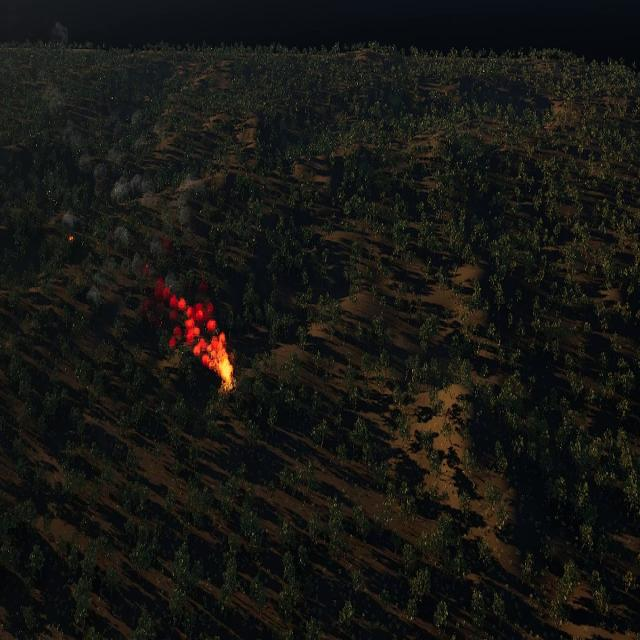fire: (216, 352, 233, 385), (68, 236, 75, 243)
smoke: (140, 262, 227, 366), (89, 223, 133, 303), (112, 172, 156, 202), (63, 208, 74, 222)
